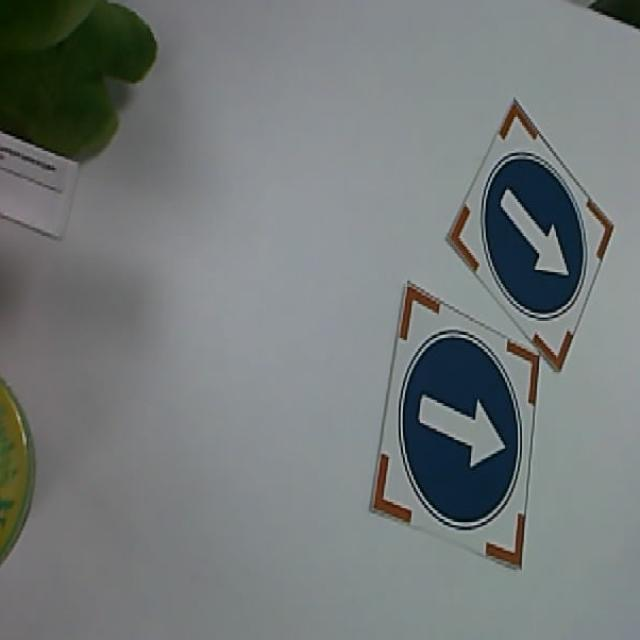straight: (372, 290, 536, 568), (448, 96, 616, 354)
